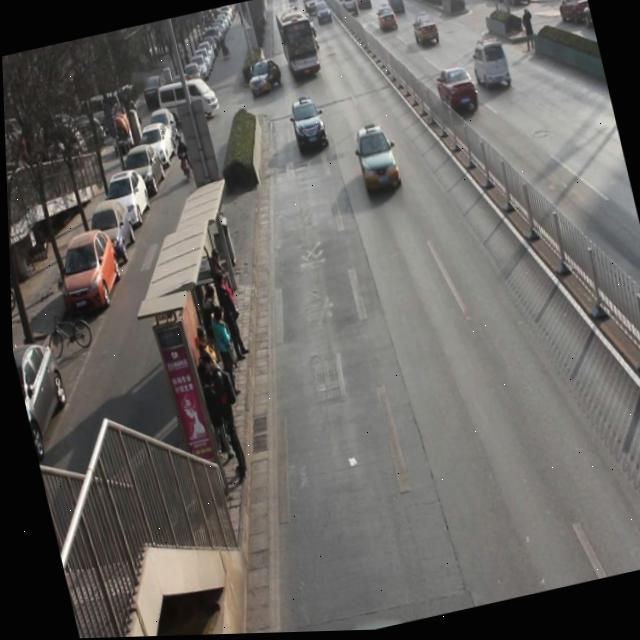car: (351, 121, 405, 201), (469, 37, 516, 102), (286, 94, 331, 158), (434, 64, 480, 120), (249, 56, 283, 97), (410, 13, 443, 50), (374, 3, 400, 37), (300, 23, 321, 58), (313, 2, 334, 29), (339, 0, 358, 19), (384, 0, 407, 15), (354, 0, 375, 16)
van: (273, 7, 321, 83)
